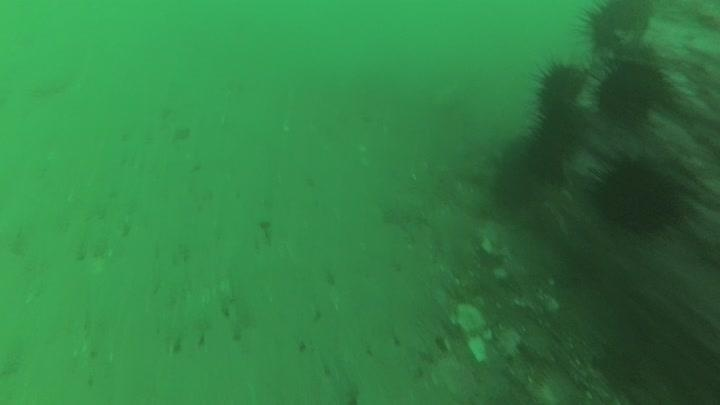echinus: (587, 152, 687, 237), (591, 57, 668, 128), (521, 105, 587, 180), (575, 1, 657, 57), (487, 143, 547, 216), (529, 57, 588, 115)
